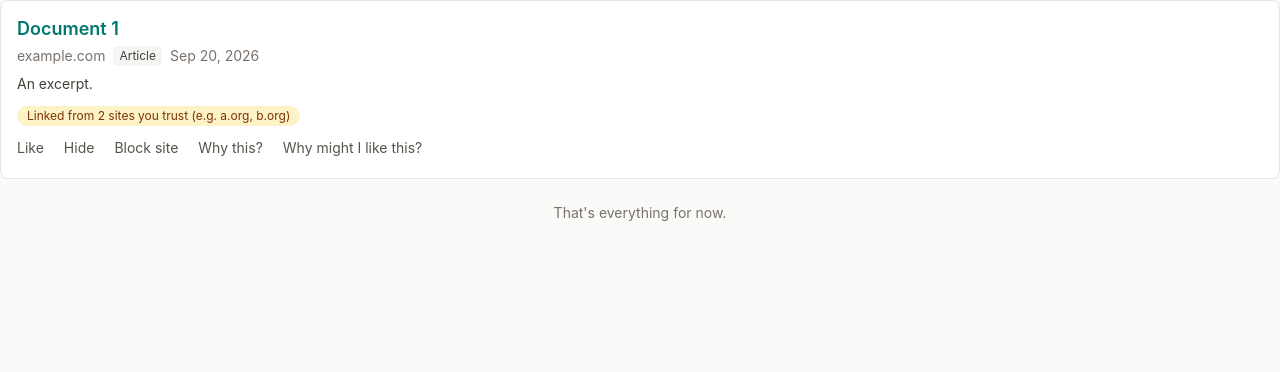
Test case: explains a summary that could not be written, and retries
Click the button "Why might I like this?" at coordinates (353, 148), box x1=275 y1=134 x2=430 y2=162
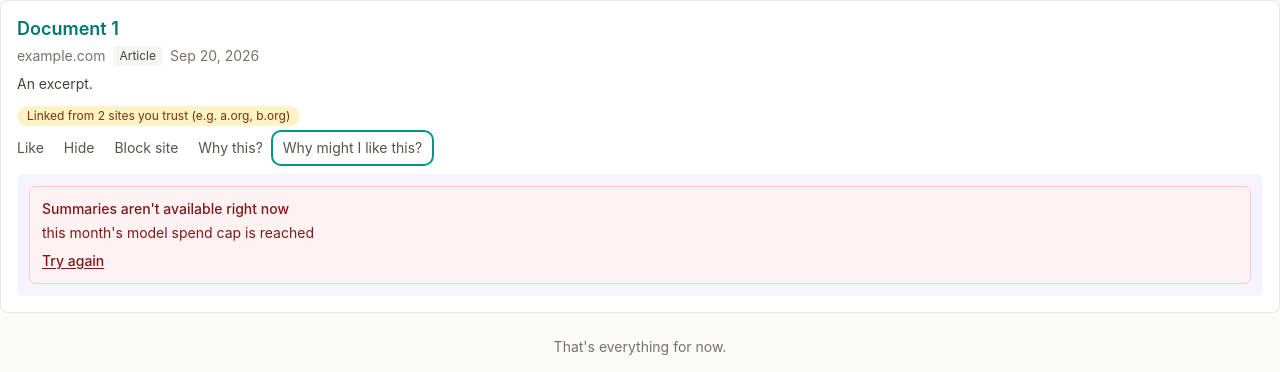
expect the message shows "Summaries aren't available right now": met, box x1=42 y1=200 x2=289 y2=217
expect the message shows "spend cap is reached": met, box x1=42 y1=224 x2=314 y2=241
Click the button "Try again" at coordinates (73, 261), box x1=42 y1=251 x2=104 y2=271
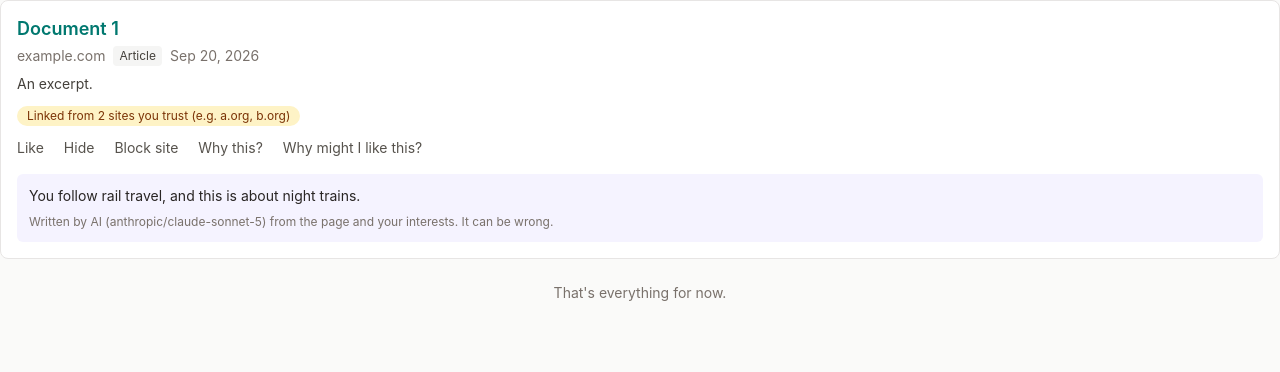
expect the text "You follow rail travel, and this is about night trains." is shown: met, box x1=29 y1=187 x2=360 y2=204
